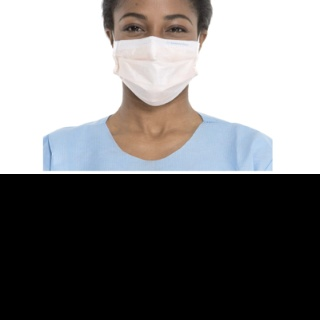with_mask: (113, 10, 199, 106)
